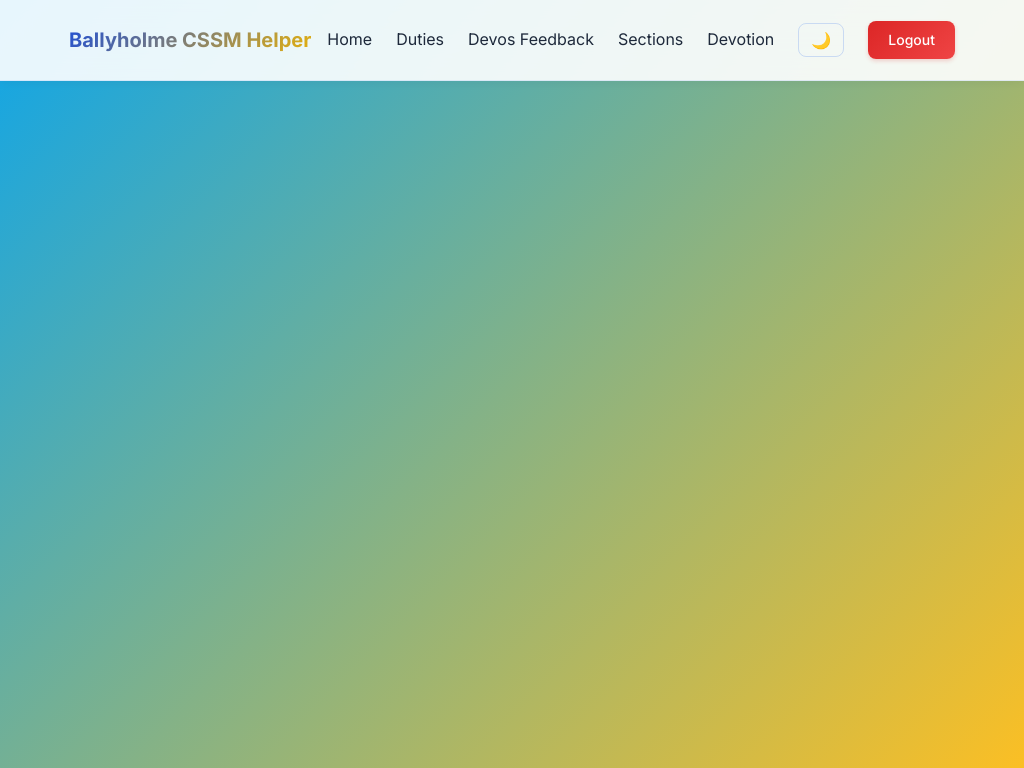
Navbar › theme toggle › desktop toggle switches to dark mode
The width and height of the screenshot is (1024, 768).
Step 1. Click the button named "Switch to dark mode" → (821, 40), box 798,23 -> 844,57
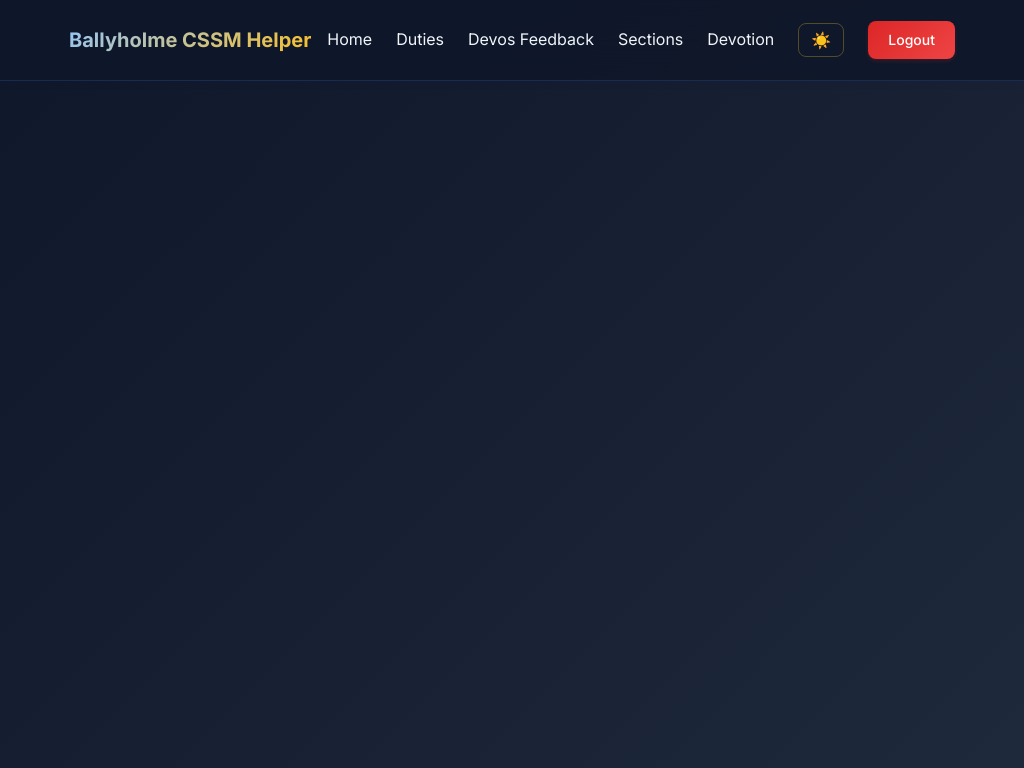
Expected: the button named "Switch to light mode" is shown, 798,23 -> 844,57
